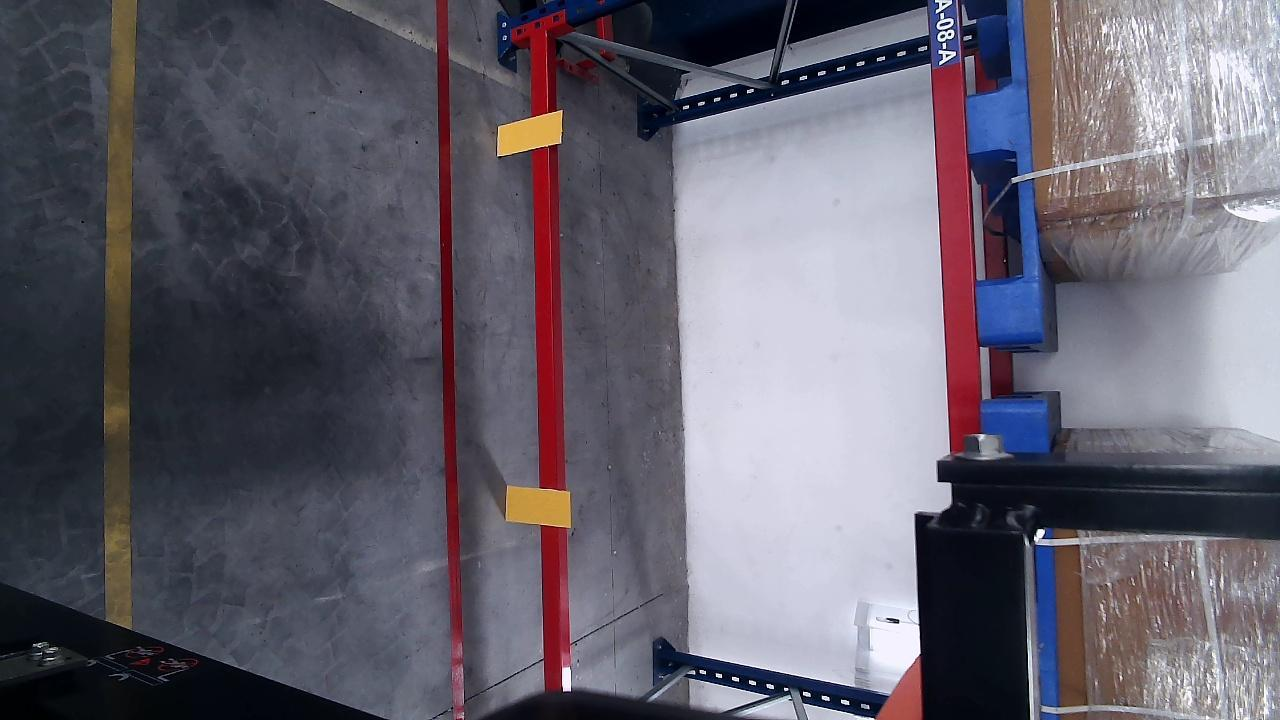h_rack: (531, 31, 569, 690), (924, 0, 981, 432)
orange_strip: (497, 111, 560, 157), (504, 487, 570, 529)
red_line: (435, 1, 466, 720)
small_pallet: (964, 0, 1044, 339)
yellow_line: (108, 0, 136, 626)
